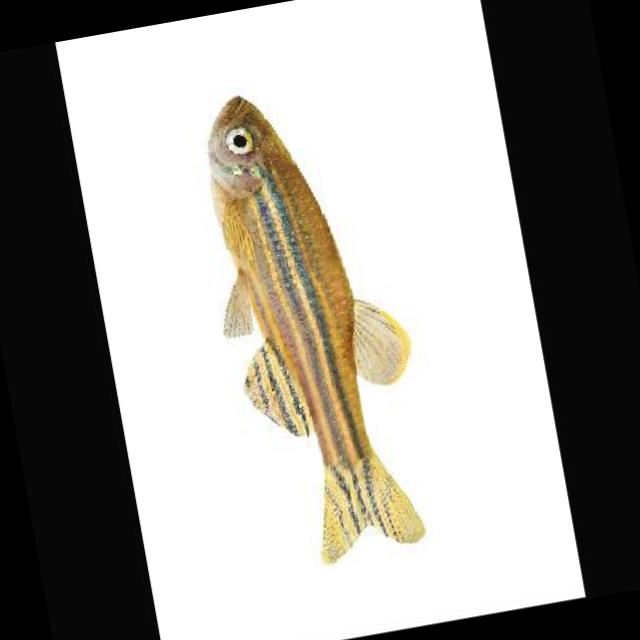ZebraFish: (184, 73, 446, 581)
